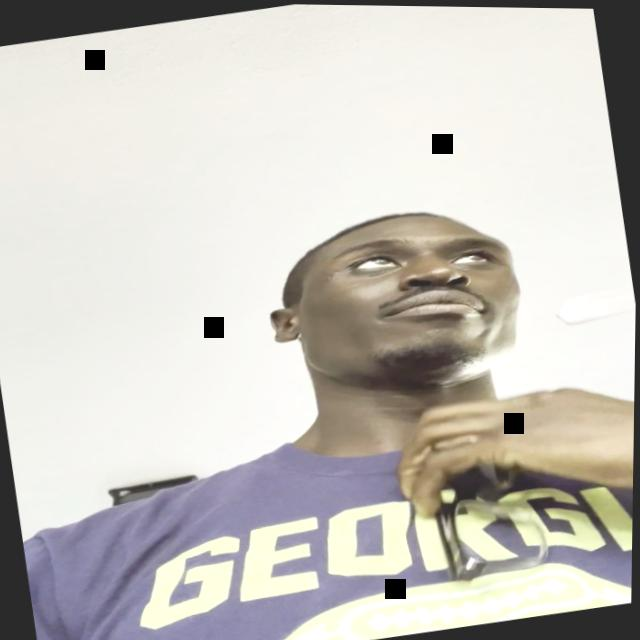NO-Mask: (269, 193, 545, 414)
